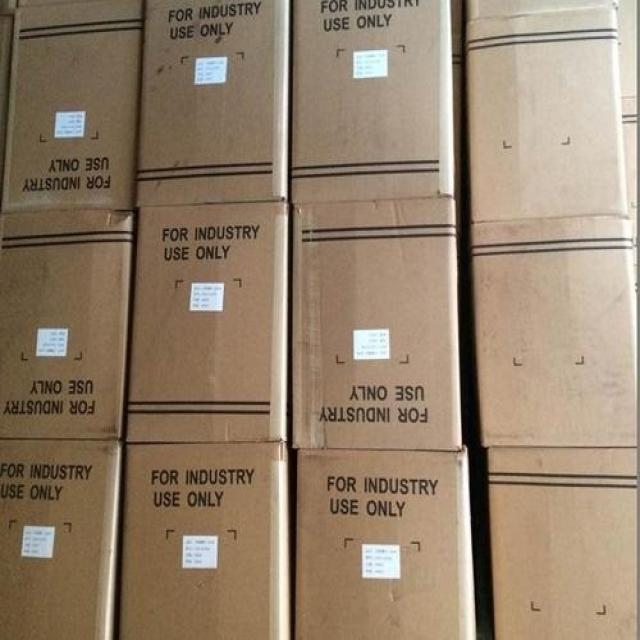box: (289, 196, 476, 452), (124, 200, 292, 442), (468, 218, 640, 447), (292, 441, 483, 639), (463, 8, 628, 224), (289, 0, 467, 200), (113, 441, 292, 639), (476, 441, 640, 639), (136, 0, 291, 207), (0, 211, 136, 440), (1, 0, 145, 213), (0, 438, 123, 639), (623, 117, 639, 338), (463, 0, 620, 22), (0, 11, 14, 188), (620, 0, 640, 117), (14, 0, 97, 10)
